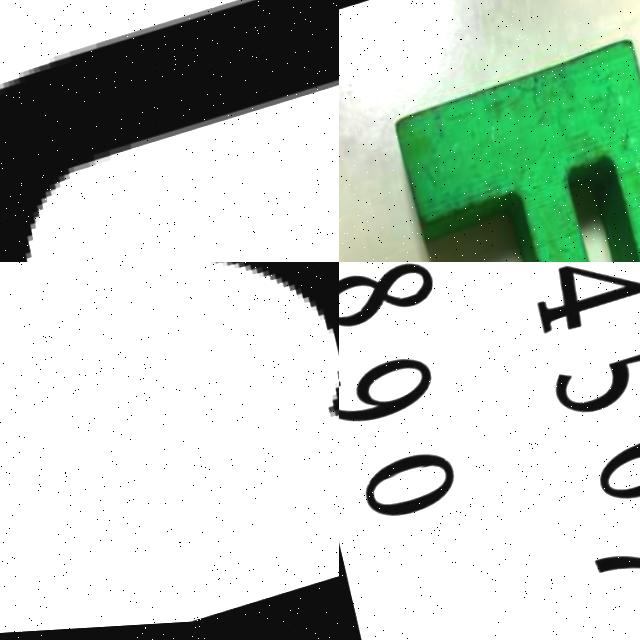0: (345, 430, 475, 541)
4: (514, 262, 640, 353)
5: (537, 325, 640, 445)
6: (582, 409, 640, 527)
7: (581, 503, 640, 630)
8: (339, 262, 454, 354)
9: (339, 326, 452, 453)
F: (379, 24, 640, 262)
R: (0, 262, 339, 605)
U: (0, 0, 339, 262)
